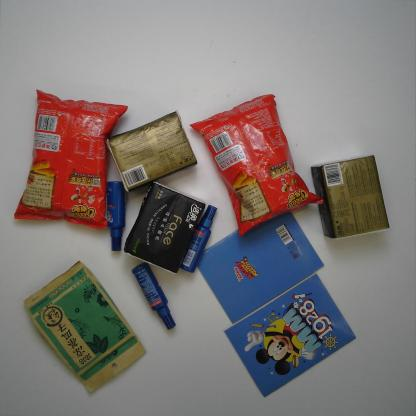Dried Food: (25, 261, 146, 399)
Personal Hygiene: (130, 260, 174, 330), (180, 204, 219, 272), (102, 175, 128, 254)
Puffed Food: (191, 91, 324, 234), (10, 88, 130, 226)
Stationery: (224, 274, 362, 400), (195, 199, 326, 323)
Tissue: (115, 182, 207, 273), (103, 110, 197, 196), (310, 149, 392, 244)
